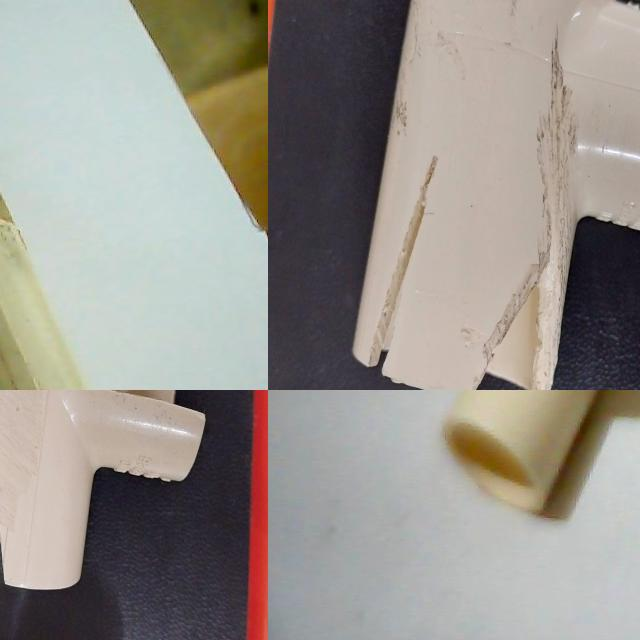Defective: (283, 241, 560, 358), (444, 277, 569, 383), (0, 592, 110, 640)
T Joint: (268, 51, 580, 390), (0, 390, 119, 640), (442, 390, 598, 515), (167, 398, 221, 640)
